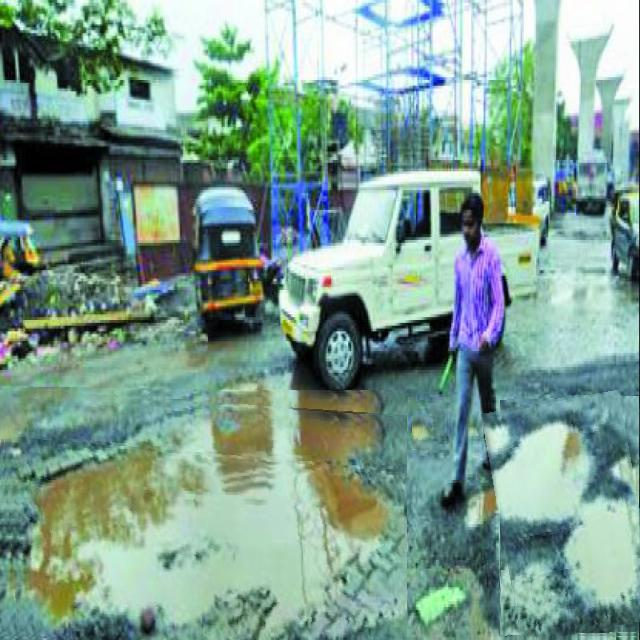Pothole: (0, 388, 407, 640), (490, 395, 640, 640), (412, 416, 432, 450)
